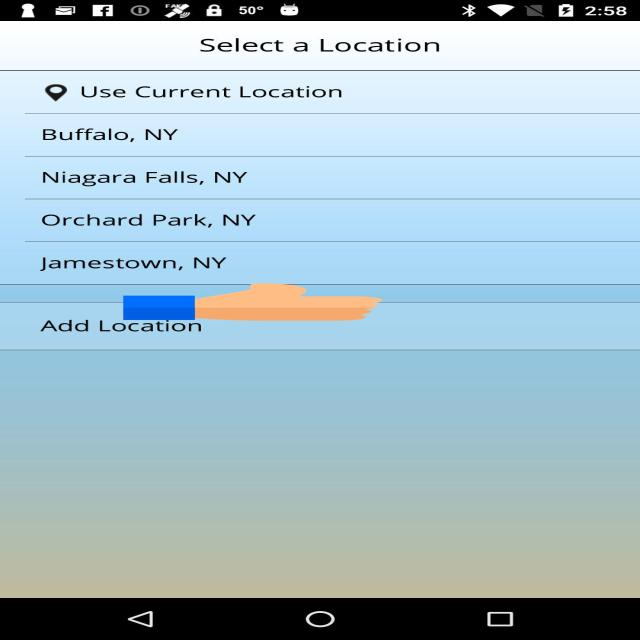privacy zuckering: (123, 282, 382, 322)
